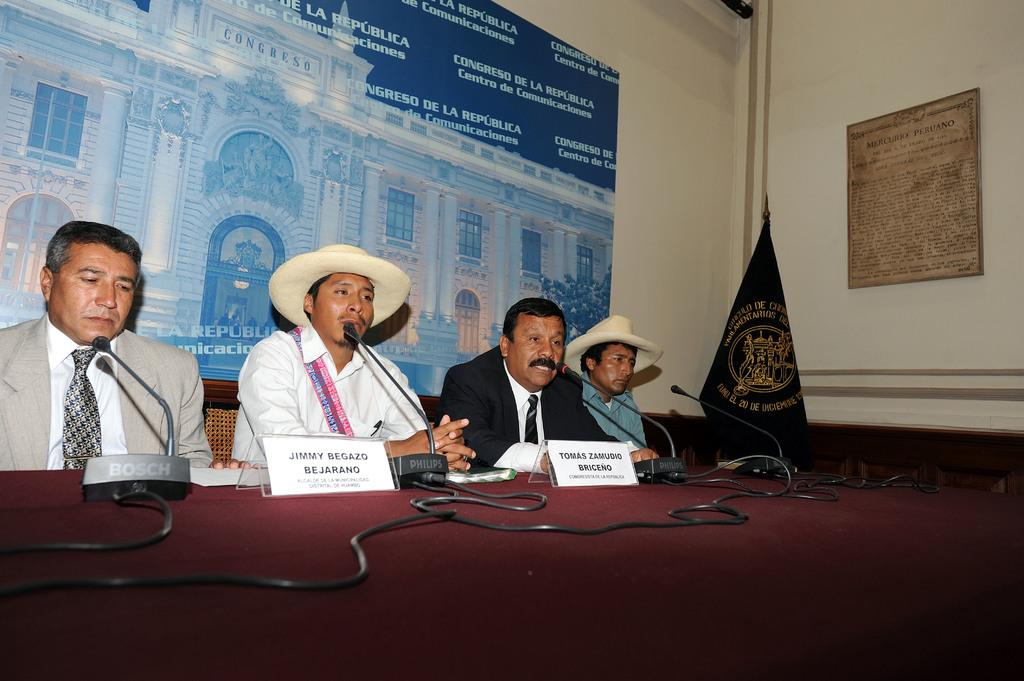Hat: (270, 246, 412, 328), (562, 314, 664, 378)
